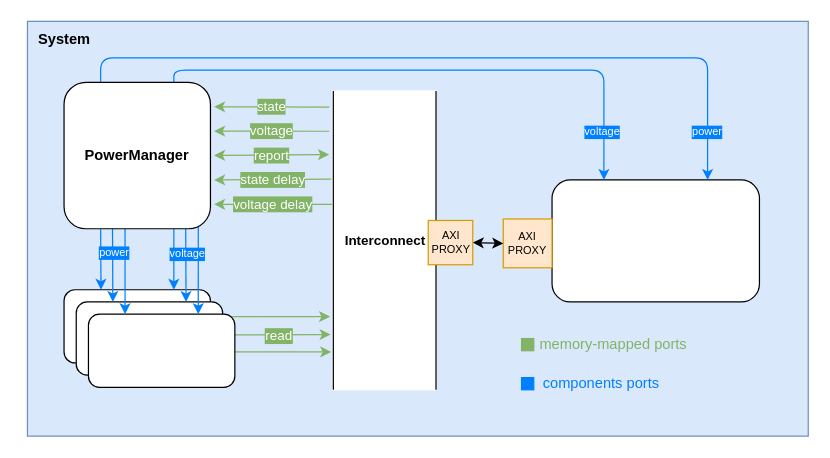
The diagram is 830 pixels wide and 458 high, and some of its shapes have lost their labels. Each missing label, with the centre of its shape:
HOST: PULP OPEN BOARD: the point at 655,240
sensors: the point at 161,350
